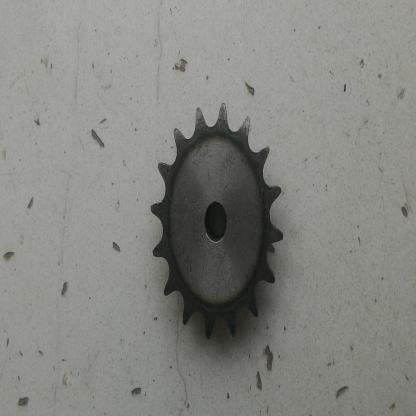FOD: (148, 100, 288, 346)
